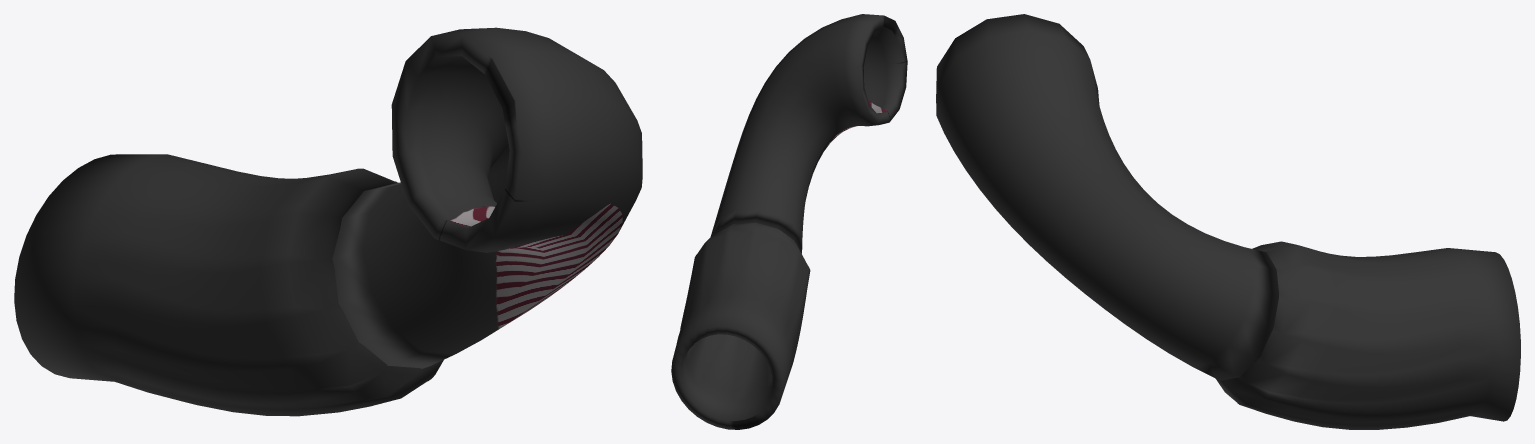
File: beforespiral.fbx
3 views of the same model, side by side, from view 1: azimuth 30°, elevation 25°; view 2: azimuth 150°, elevation 25°; view 3: azimuth 270°, elevation 25° (orthographic). The views are drawn at different scales.
Parts seen in each view (by area): view 1: Spiral start; view 2: Spiral start; view 3: Spiral start.
Part boxes in pixels (box(x1,y1,x2,y2)): Spiral start: box(14, 27, 642, 416); Spiral start: box(671, 14, 907, 429); Spiral start: box(936, 14, 1520, 429).
Size of the model in its own units: 1017 by 1645 by 2115.
